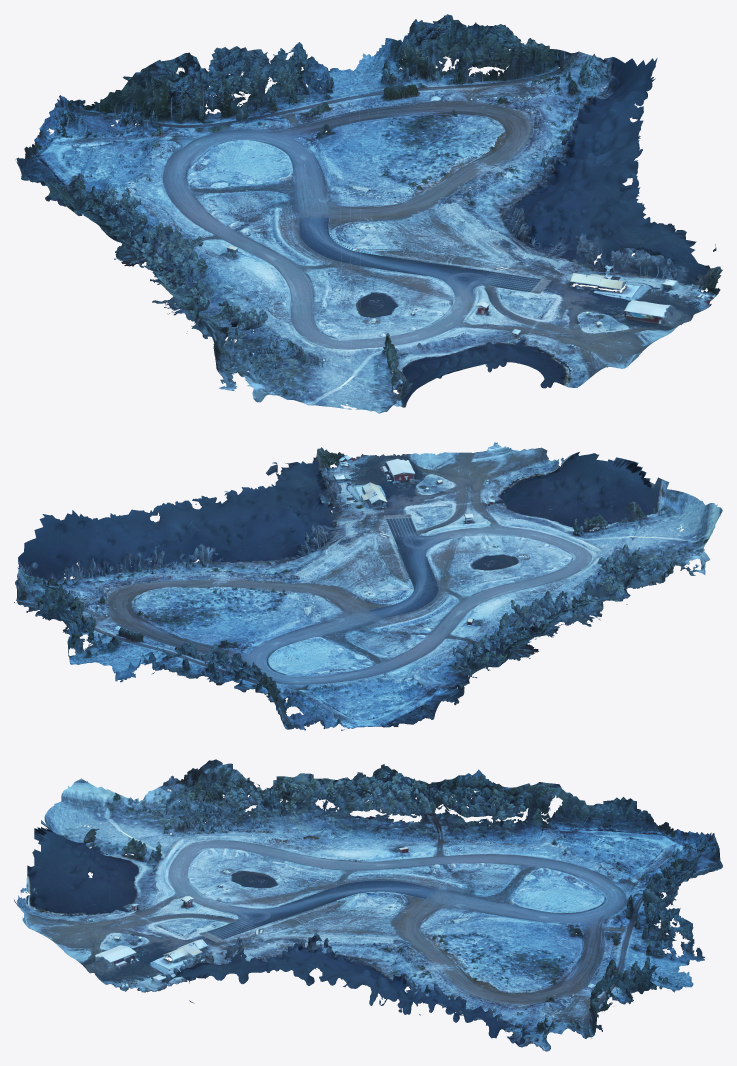
File: malli.glb
The picture shows the model from 3 angles, top to bottom: view 1: azimuth 30°, elevation 25°; view 2: azimuth 150°, elevation 25°; view 3: azimuth 270°, elevation 25°; orthographic projection. The views are drawn at different scales.
Visible parts, largest first — view 1: zup_to_yup; view 2: zup_to_yup; view 3: zup_to_yup.
Boxes of the visible parts, x1,y1,x2,y2 form: zup_to_yup: (15, 14, 722, 413); zup_to_yup: (14, 442, 722, 730); zup_to_yup: (14, 759, 722, 1051).
Size of the model in its own units: 372 by 33.08 by 427.
40 materials, 40 textured.
